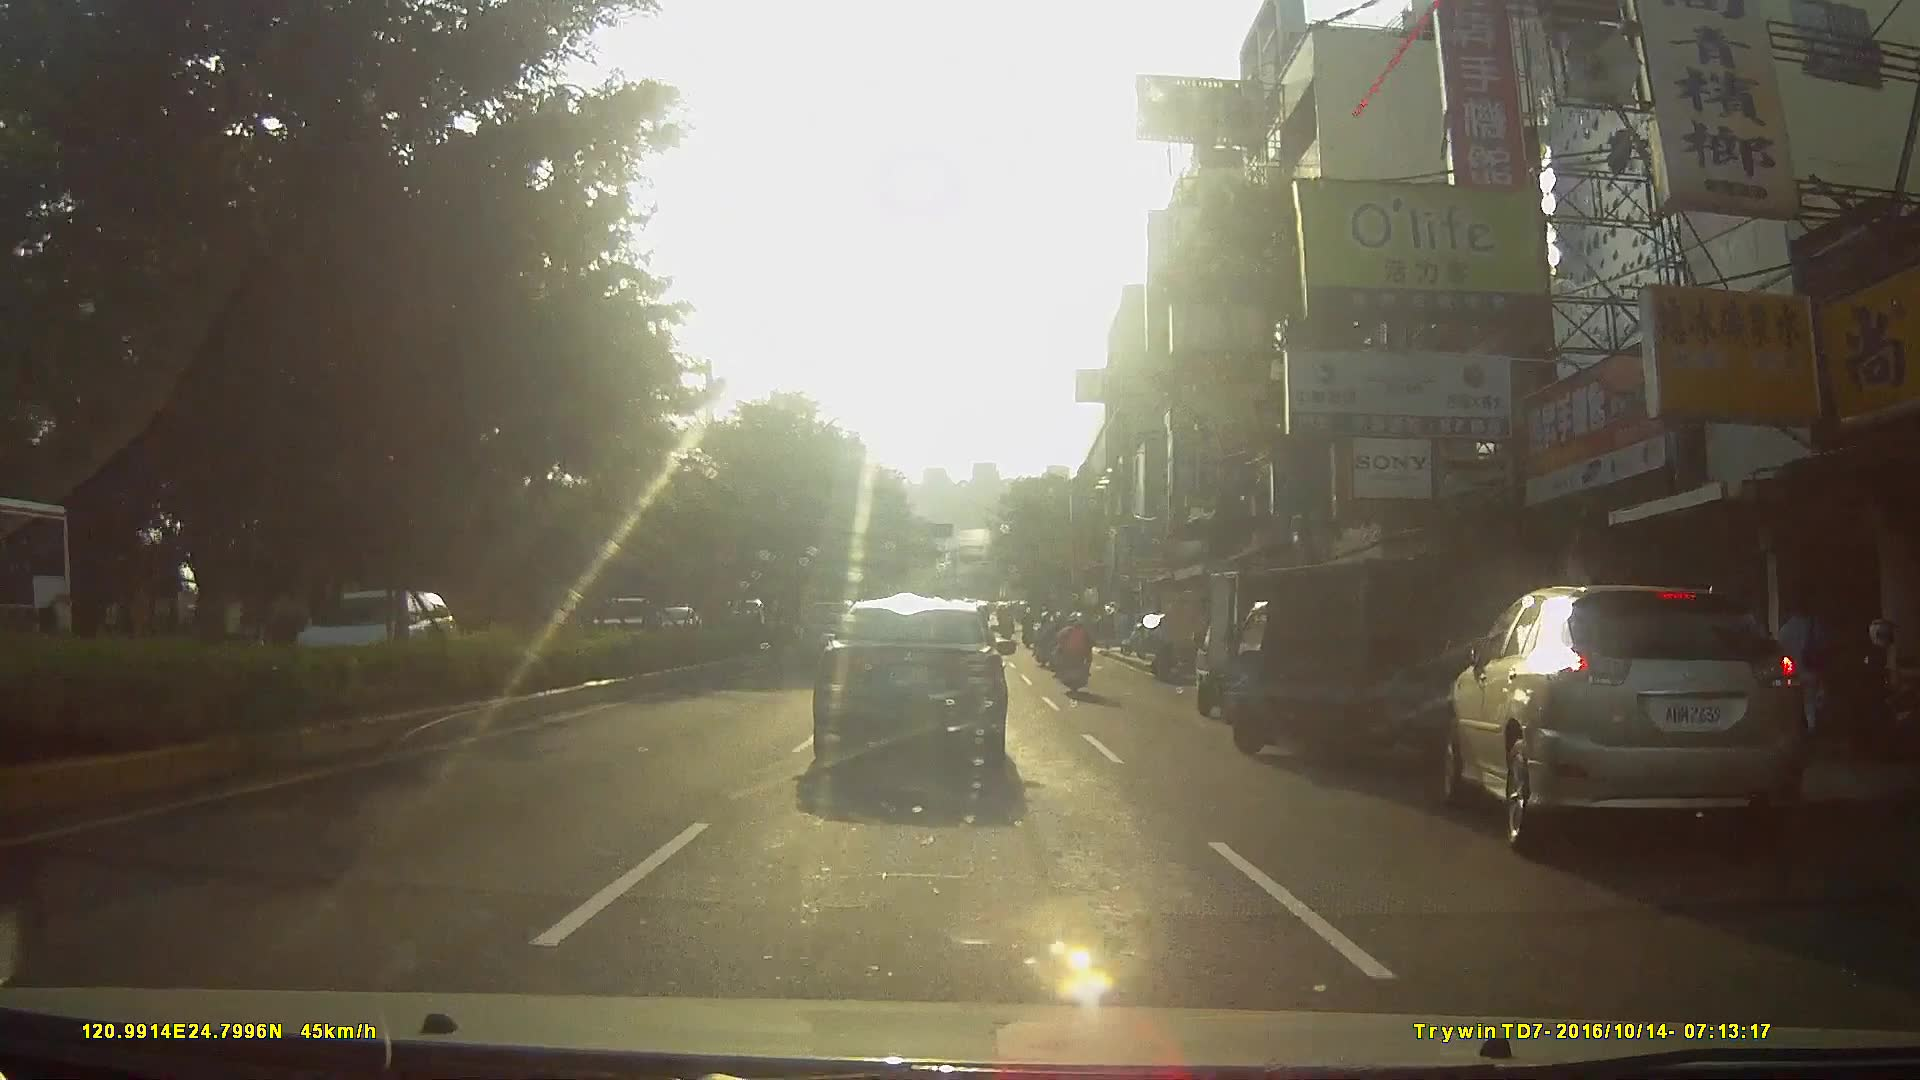pedestrian: (1768, 591, 1835, 750)
rider: (1051, 607, 1094, 698), (1033, 607, 1057, 664)
vehicle: (1438, 569, 1861, 874), (1216, 546, 1502, 780), (810, 590, 1029, 779), (282, 582, 460, 692)
